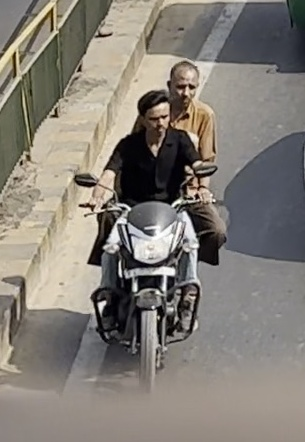BikeWithRider: (68, 57, 233, 405)
NoHelmet: (128, 84, 177, 144), (161, 57, 205, 112)
